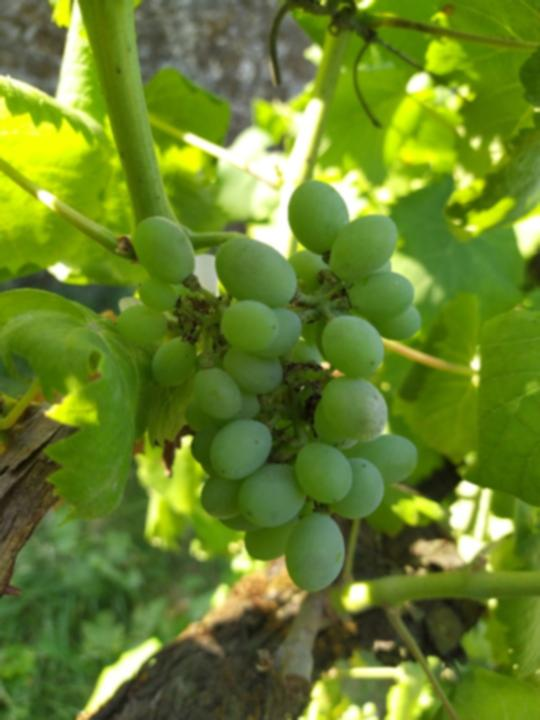grape: (111, 173, 428, 600)
